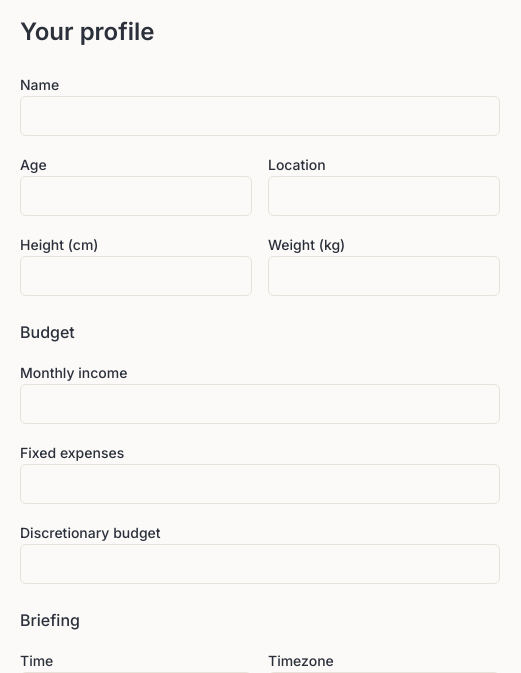
Test: ProfilePage — Loaded state › shows 'Saved ✓' after successful save
The width and height of the screenshot is (521, 673).
Expected: the heading "Your profile" is shown, [20,16,154,48]
Type "Alice" into the field labelled "Name" at [260, 116], box [20,96,500,136]
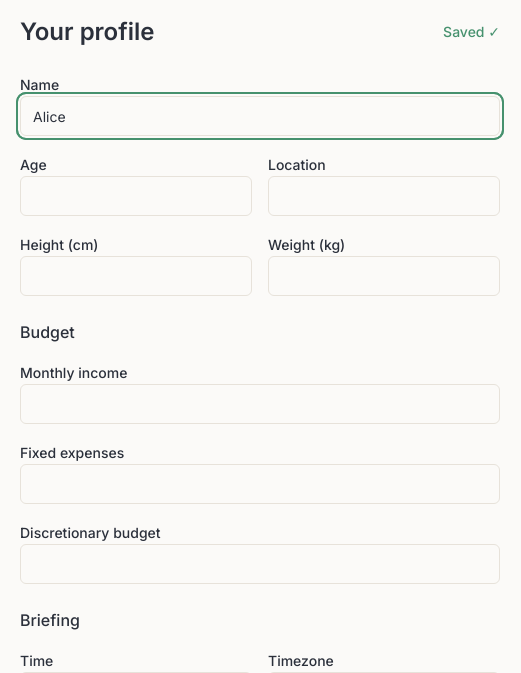
Expected: the text "Saved ✓" is shown, [443,22,500,42]
